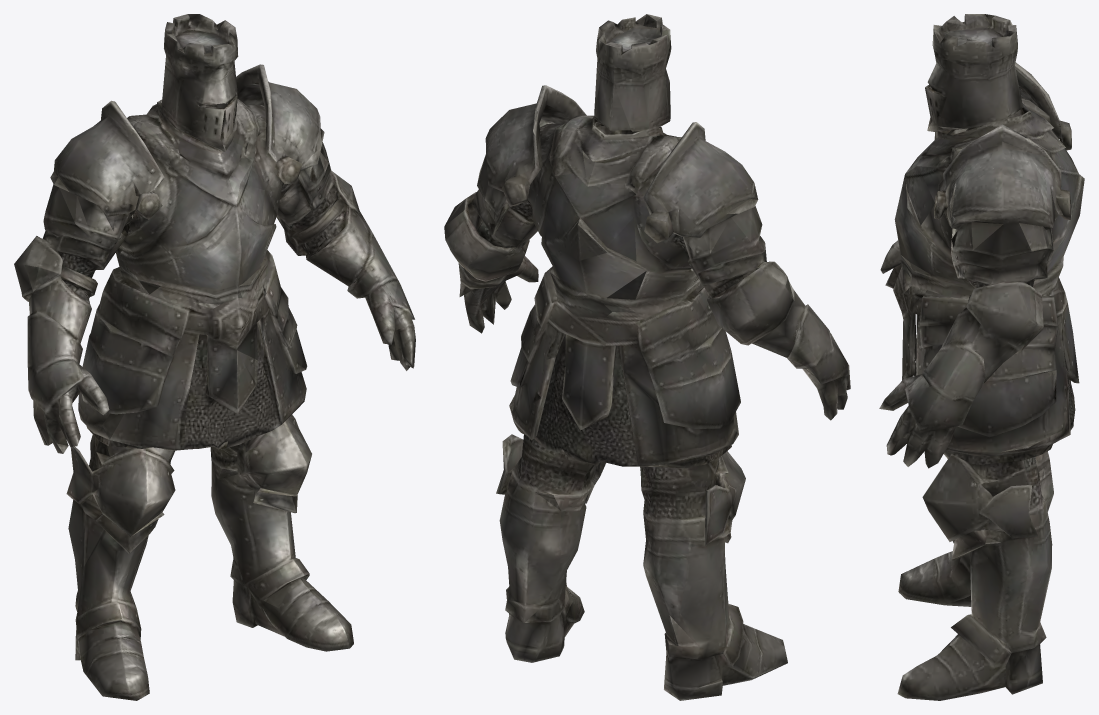
File: 211b0ba5-2c7f-44ff-8143-b625bca41df1.glb
The picture shows the model from 3 angles, left to right: view 1: azimuth 30°, elevation 25°; view 2: azimuth 150°, elevation 25°; view 3: azimuth 270°, elevation 25°; orthographic projection.
Visible parts, largest first — view 1: Mesh_0; view 2: Mesh_0; view 3: Mesh_0.
Boxes of the visible parts, <box> form: Mesh_0: <box>14,14,415,700</box>; Mesh_0: <box>444,14,850,700</box>; Mesh_0: <box>879,14,1084,700</box>.
Bounding box in the file's own units: 1.13 × 1.8 × 0.5453.
Materials: 1 (1 with a texture image).
